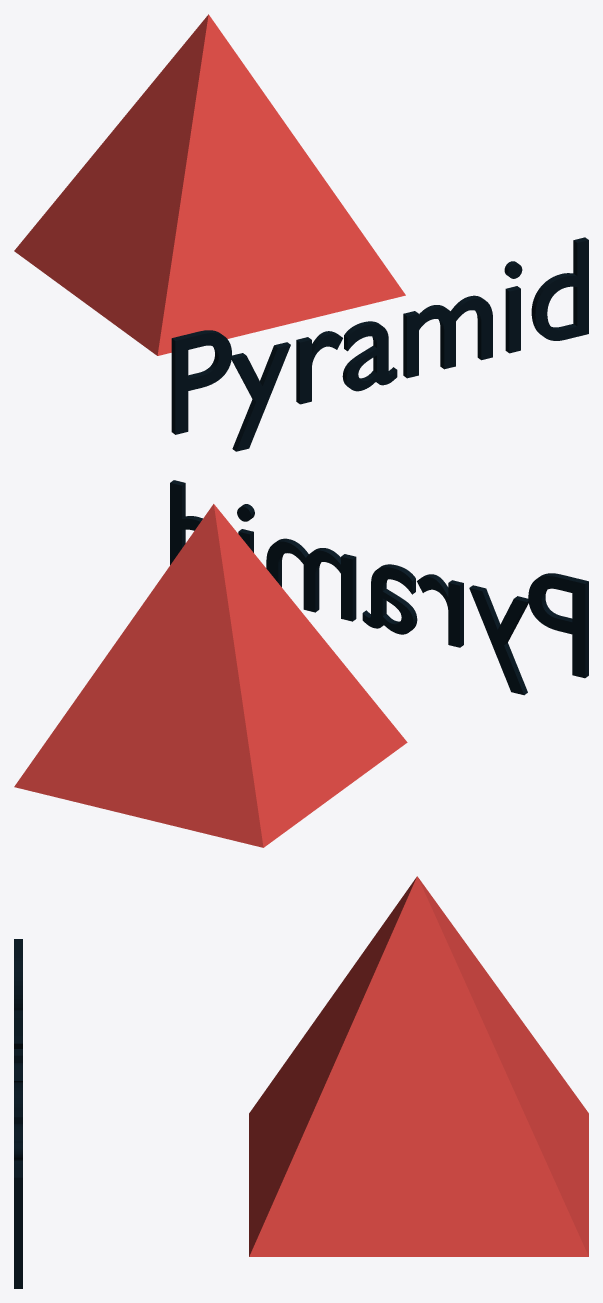
3 views of the same model, one above another, from view 1: azimuth 30°, elevation 25°; view 2: azimuth 150°, elevation 25°; view 3: azimuth 270°, elevation 25° (orthographic). The views are drawn at different scales.
Visible parts, largest first — view 1: Cube, Text.001; view 2: Cube, Text.001; view 3: Cube, Text.001.
Boxes of the visible parts, box(x1,y1,x2,y2) form: Cube: box(14, 14, 405, 355); Text.001: box(171, 237, 588, 451); Cube: box(14, 504, 407, 847); Text.001: box(170, 480, 588, 695); Cube: box(249, 876, 588, 1256); Text.001: box(14, 939, 22, 1288).
Size of the model in its own units: 0.3327 by 0.2137 by 0.3384.
